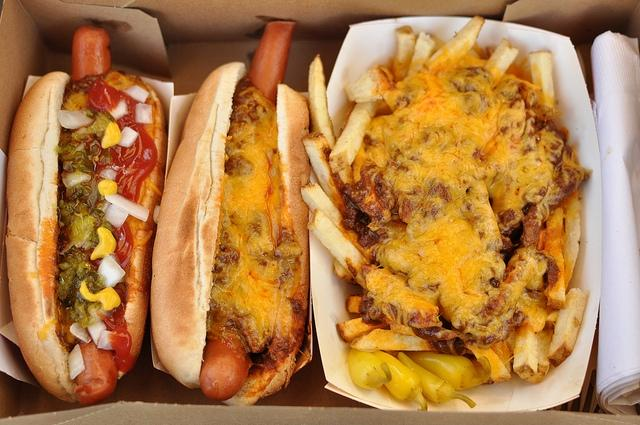onion: (104, 193, 150, 222), (97, 255, 126, 288), (57, 108, 95, 130), (68, 344, 85, 379), (104, 204, 128, 228), (122, 85, 150, 104), (62, 170, 91, 188), (86, 321, 106, 345), (118, 126, 139, 148), (108, 100, 128, 121), (70, 322, 90, 342), (134, 102, 152, 124), (98, 330, 114, 350), (99, 168, 117, 181)
